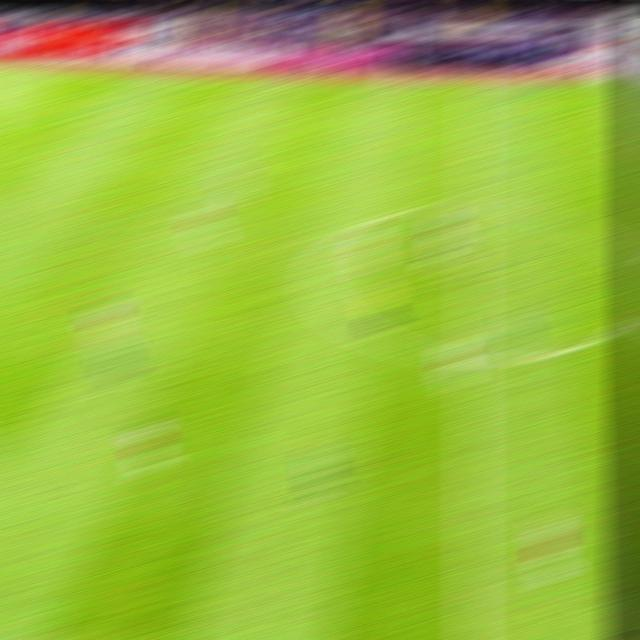bigarea_top_inner: (0, 115, 14, 133)
halfcircle_bottom: (452, 343, 492, 372)
halfcircle_top: (452, 193, 493, 217)
midline_top_intersection: (456, 73, 492, 92)
